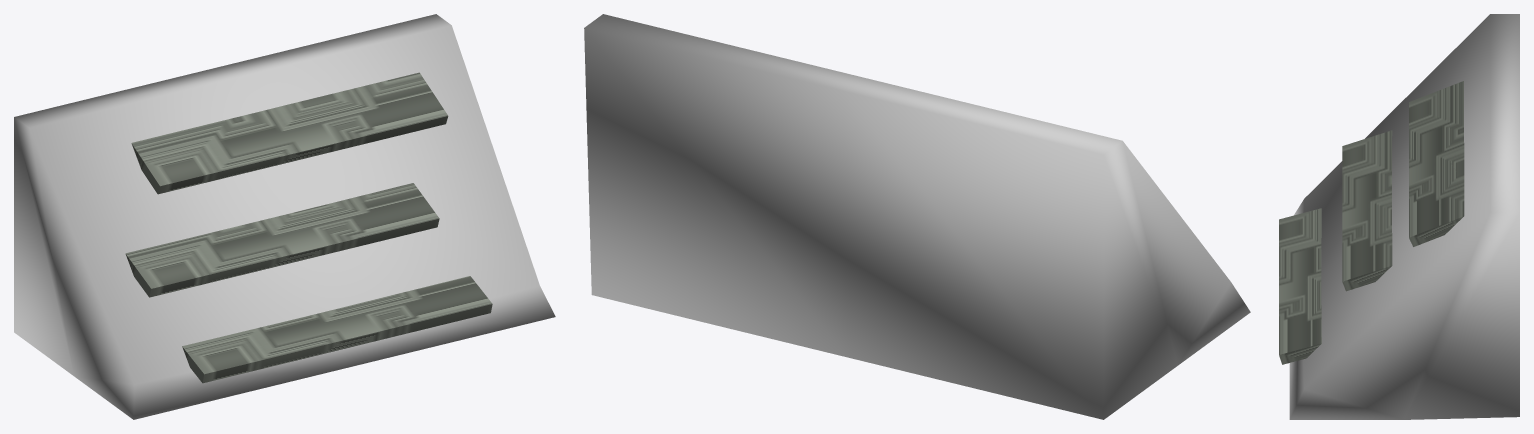
Rendered from Ramp.fbx.
3 views of the same model, side by side, from view 1: azimuth 30°, elevation 25°; view 2: azimuth 150°, elevation 25°; view 3: azimuth 270°, elevation 25° (orthographic). The views are drawn at different scales.
Parts seen in each view (by area): view 1: Ramp_Low; view 2: Ramp_Low; view 3: Ramp_Low.
Boxes of the visible parts, left/top/right/bottom form: Ramp_Low: left=14, top=14, right=555, bottom=419; Ramp_Low: left=584, top=14, right=1250, bottom=419; Ramp_Low: left=1279, top=14, right=1519, bottom=419.
Size of the model in its own units: 4.1 by 2 by 2.1.
